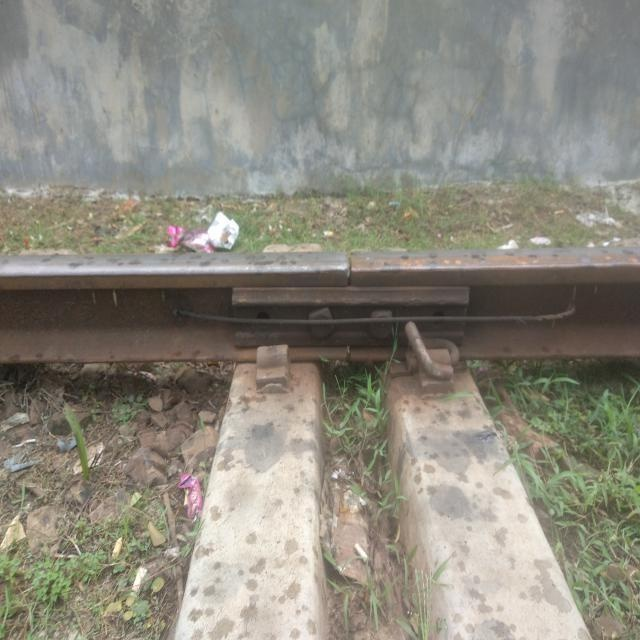obstacle: (242, 334, 298, 400), (247, 303, 275, 341), (429, 306, 458, 335)
